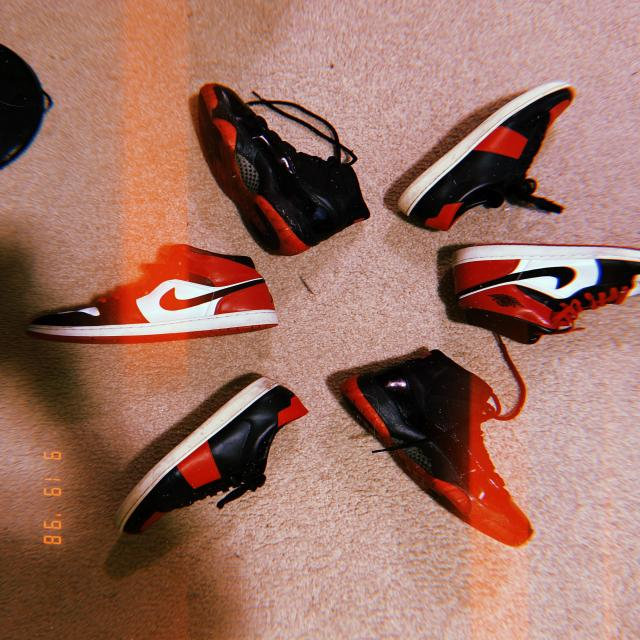shoe: (305, 337, 568, 565), (96, 357, 320, 568), (178, 65, 388, 262), (377, 71, 598, 243), (9, 232, 295, 351), (418, 227, 640, 349)
